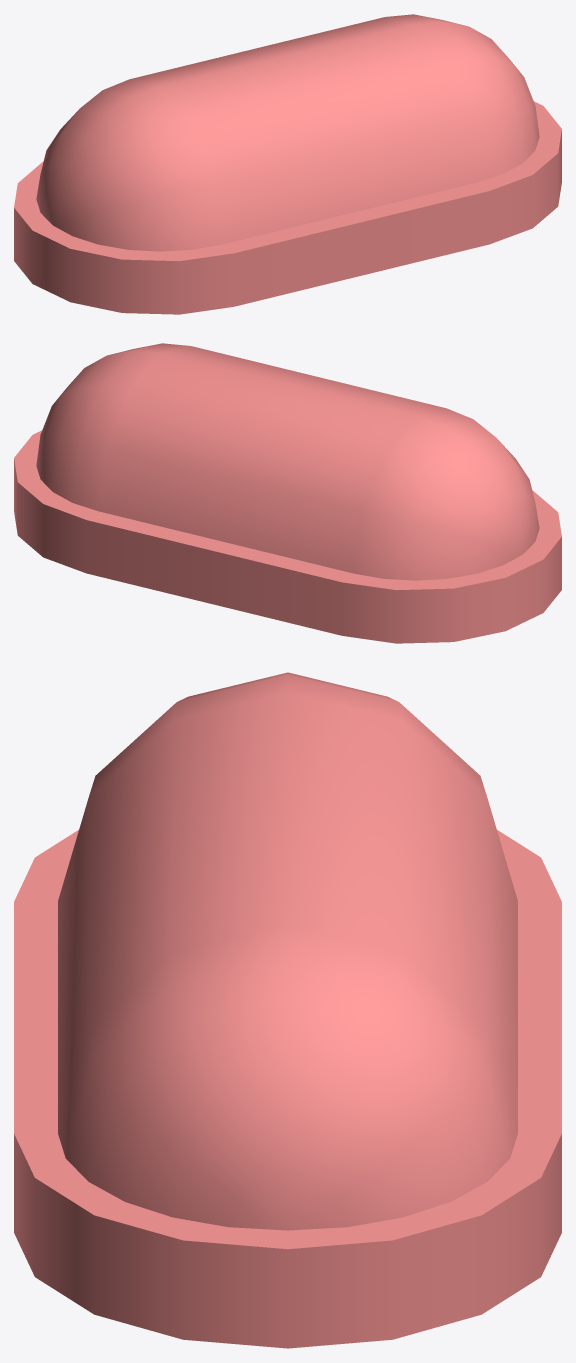
The model's file is Light_DengPian4_1X1_off.FBX.
3 renders of one model, top to bottom at view 1: azimuth 30°, elevation 25°; view 2: azimuth 150°, elevation 25°; view 3: azimuth 270°, elevation 25°, orthographic. The views are drawn at different scales.
Parts seen in each view (by area): view 1: Box002; view 2: Box002; view 3: Box002.
Boxes of the visible parts, bbox=[...] form: Box002: bbox=[14, 14, 561, 314]; Box002: bbox=[14, 343, 561, 643]; Box002: bbox=[14, 672, 561, 1348].
Size of the model in its own units: 1 by 0.3102 by 0.5.
